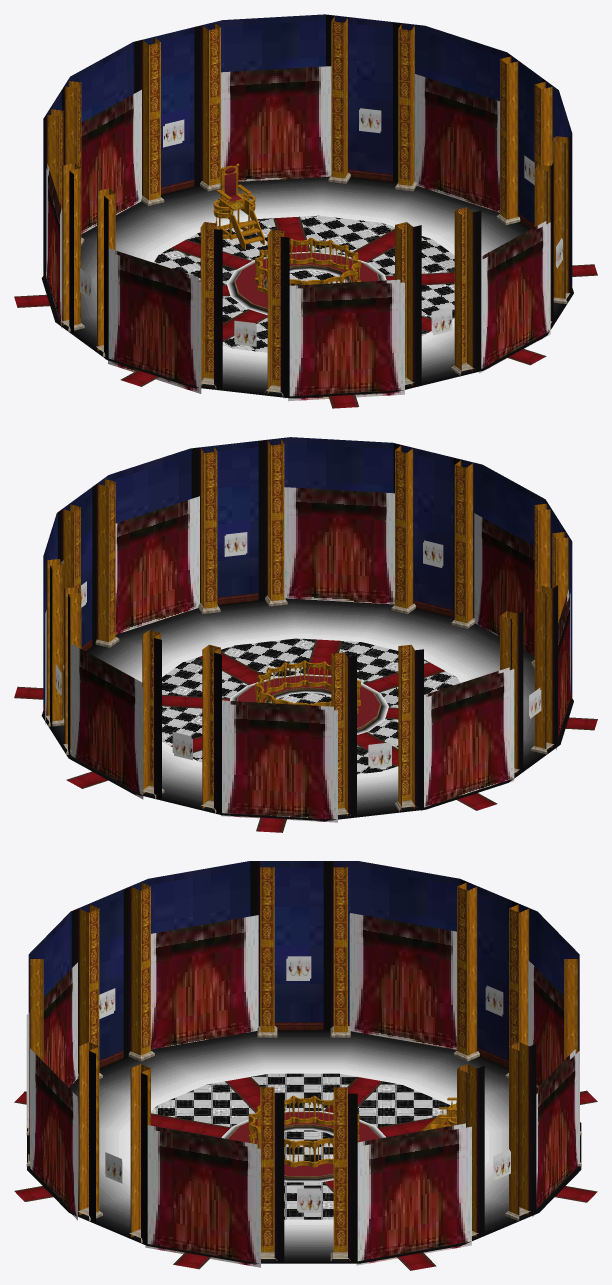
Rendered from stage.glb.
The picture shows the model from 3 angles, top to bottom: view 1: azimuth 30°, elevation 25°; view 2: azimuth 150°, elevation 25°; view 3: azimuth 270°, elevation 25°; orthographic projection. The views are drawn at different scales.
Visible parts, largest first — view 1: 0011___, 0004___, 0000___, 0013___, 0002___, 0003___, 0008___, 0012___, 0007___, 0005___, 0009___, 0001___ (+1 smaller); view 2: 0011___, 0004___, 0000___, 0013___, 0002___, 0003___, 0012___, 0005___, 0007___, 0008___, 0001___, 0009___; view 3: 0011___, 0004___, 0000___, 0013___, 0002___, 0003___, 0012___, 0008___, 0007___, 0005___, 0009___, 0001___.
Part boxes in pixels (x1,y1,x2,y2): 0011___: [46, 66, 554, 401]; 0004___: [44, 14, 571, 397]; 0000___: [43, 14, 572, 284]; 0013___: [41, 176, 573, 398]; 0002___: [153, 215, 454, 352]; 0003___: [14, 216, 597, 408]; 0008___: [213, 163, 360, 297]; 0012___: [80, 108, 562, 346]; 0007___: [224, 167, 378, 308]; 0005___: [46, 172, 569, 396]; 0009___: [213, 195, 360, 297]; 0001___: [43, 169, 572, 291]; 0011___: [45, 487, 570, 822]; 0004___: [46, 438, 569, 817]; 0000___: [43, 437, 572, 707]; 0013___: [41, 598, 573, 820]; 0002___: [162, 638, 460, 774]; 0003___: [14, 639, 597, 832]; 0012___: [55, 532, 541, 768]; 0005___: [46, 595, 553, 819]; 0007___: [237, 675, 379, 727]; 0008___: [222, 660, 360, 713]; 0001___: [43, 593, 572, 715]; 0009___: [255, 662, 360, 713]; 0011___: [26, 913, 579, 1267]; 0004___: [29, 861, 578, 1262]; 0000___: [28, 861, 579, 1060]; 0013___: [27, 1030, 581, 1263]; 0002___: [151, 1073, 450, 1219]; 0003___: [14, 1077, 597, 1270]; 0012___: [99, 956, 510, 1212]; 0008___: [248, 1095, 456, 1167]; 0007___: [229, 1108, 456, 1175]; 0005___: [26, 1026, 581, 1260]; 0009___: [249, 1098, 456, 1167]; 0001___: [99, 1022, 508, 1068].
Bounding box in the file's own units: 14.02 × 4.61 × 13.93.
14 materials, 14 textured.
